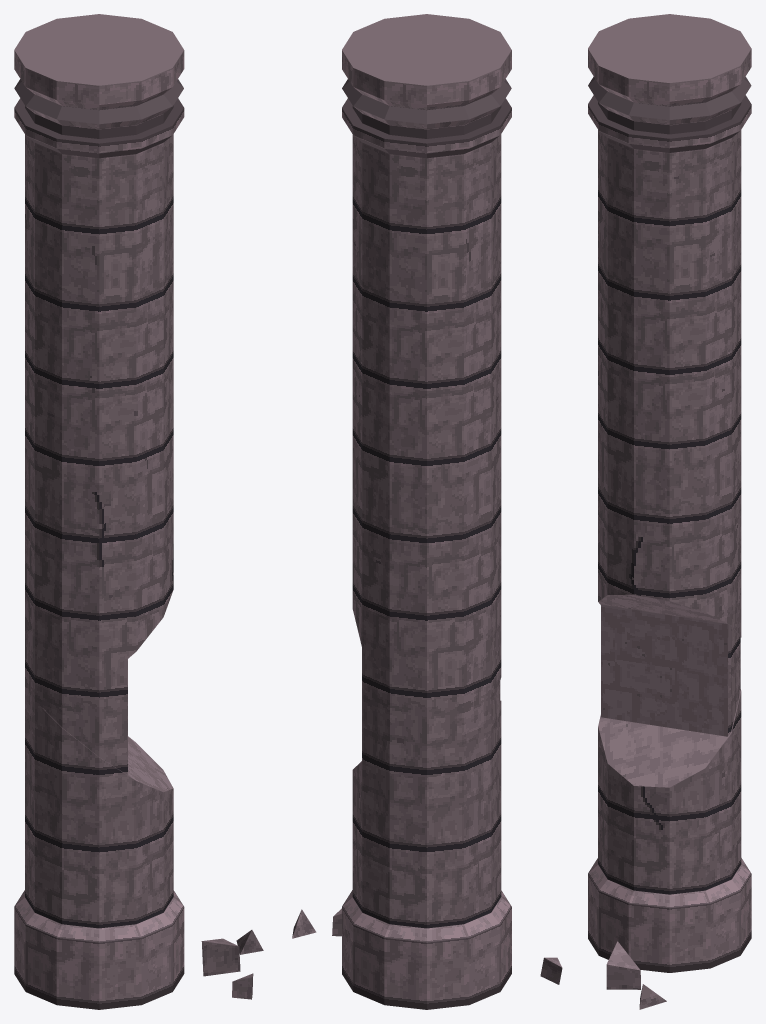
Rendered from saeule_z1_treffer1.glb.
3 views of the same model, side by side, from view 1: azimuth 30°, elevation 25°; view 2: azimuth 150°, elevation 25°; view 3: azimuth 270°, elevation 25° (orthographic). The views are drawn at different scales.
Parts seen in each view (by area): view 1: saeule_z1_treffer1; view 2: saeule_z1_treffer1; view 3: saeule_z1_treffer1.
Boxes of the visible parts, x1,y1,x2,y2 form: saeule_z1_treffer1: (14,14,263,1009); saeule_z1_treffer1: (292,14,511,1009); saeule_z1_treffer1: (540,14,751,1009).
Size of the model in its own units: 1.51 by 6.01 by 1.29.
1 material, 1 textured.
